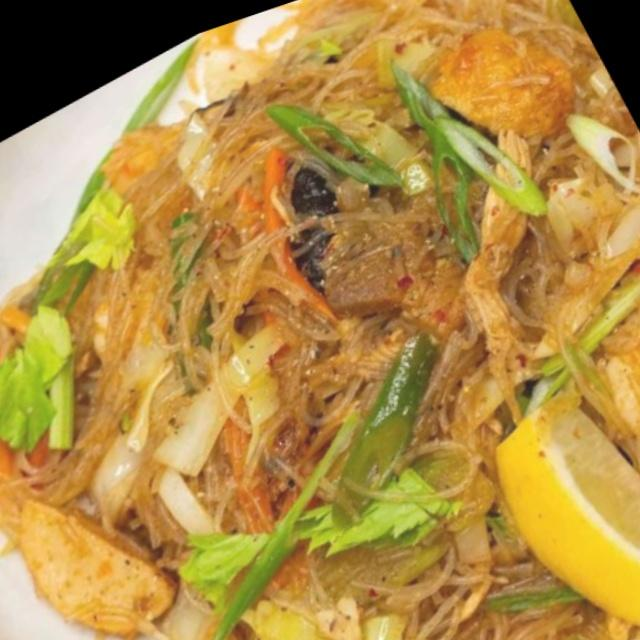pancit bihon: (0, 0, 639, 639)
